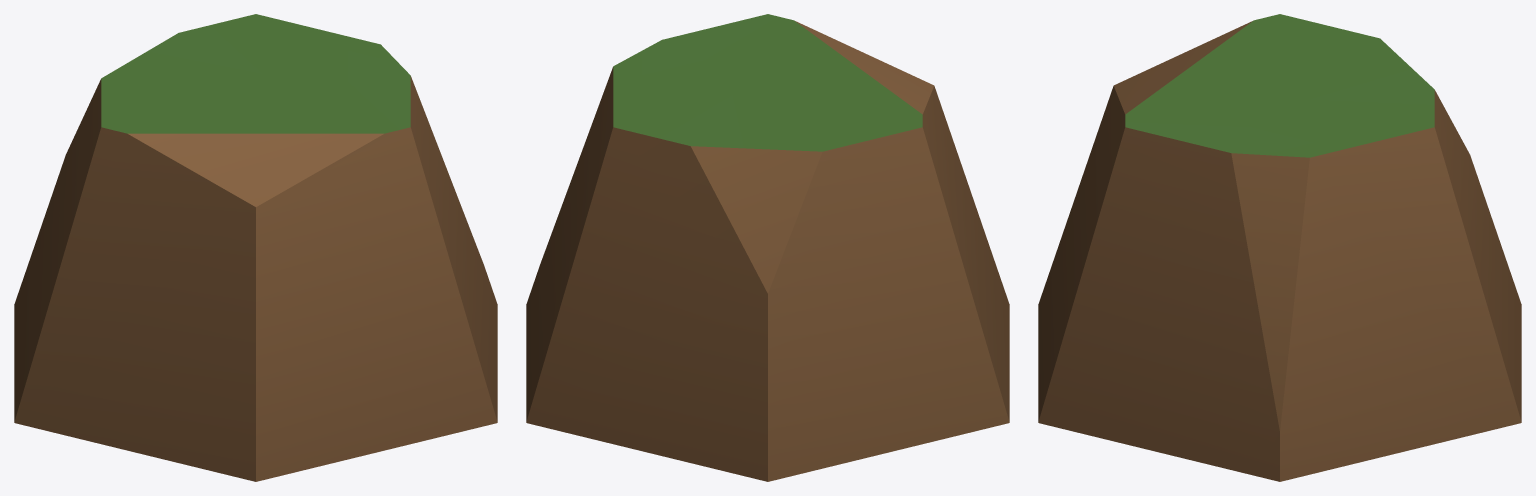
File: rock_s_b.glb
3 renders of one model, left to right at view 1: azimuth 30°, elevation 25°; view 2: azimuth 150°, elevation 25°; view 3: azimuth 270°, elevation 25°, orthographic.
Parts seen in each view (by area): view 1: rock_s_b; view 2: rock_s_b; view 3: rock_s_b.
Part boxes in pixels (bbox=[...]): rock_s_b: bbox=[14, 14, 497, 481]; rock_s_b: bbox=[526, 14, 1009, 481]; rock_s_b: bbox=[1038, 14, 1521, 481].
Bounding box in the file's own units: 0.5 × 0.2712 × 0.433.
